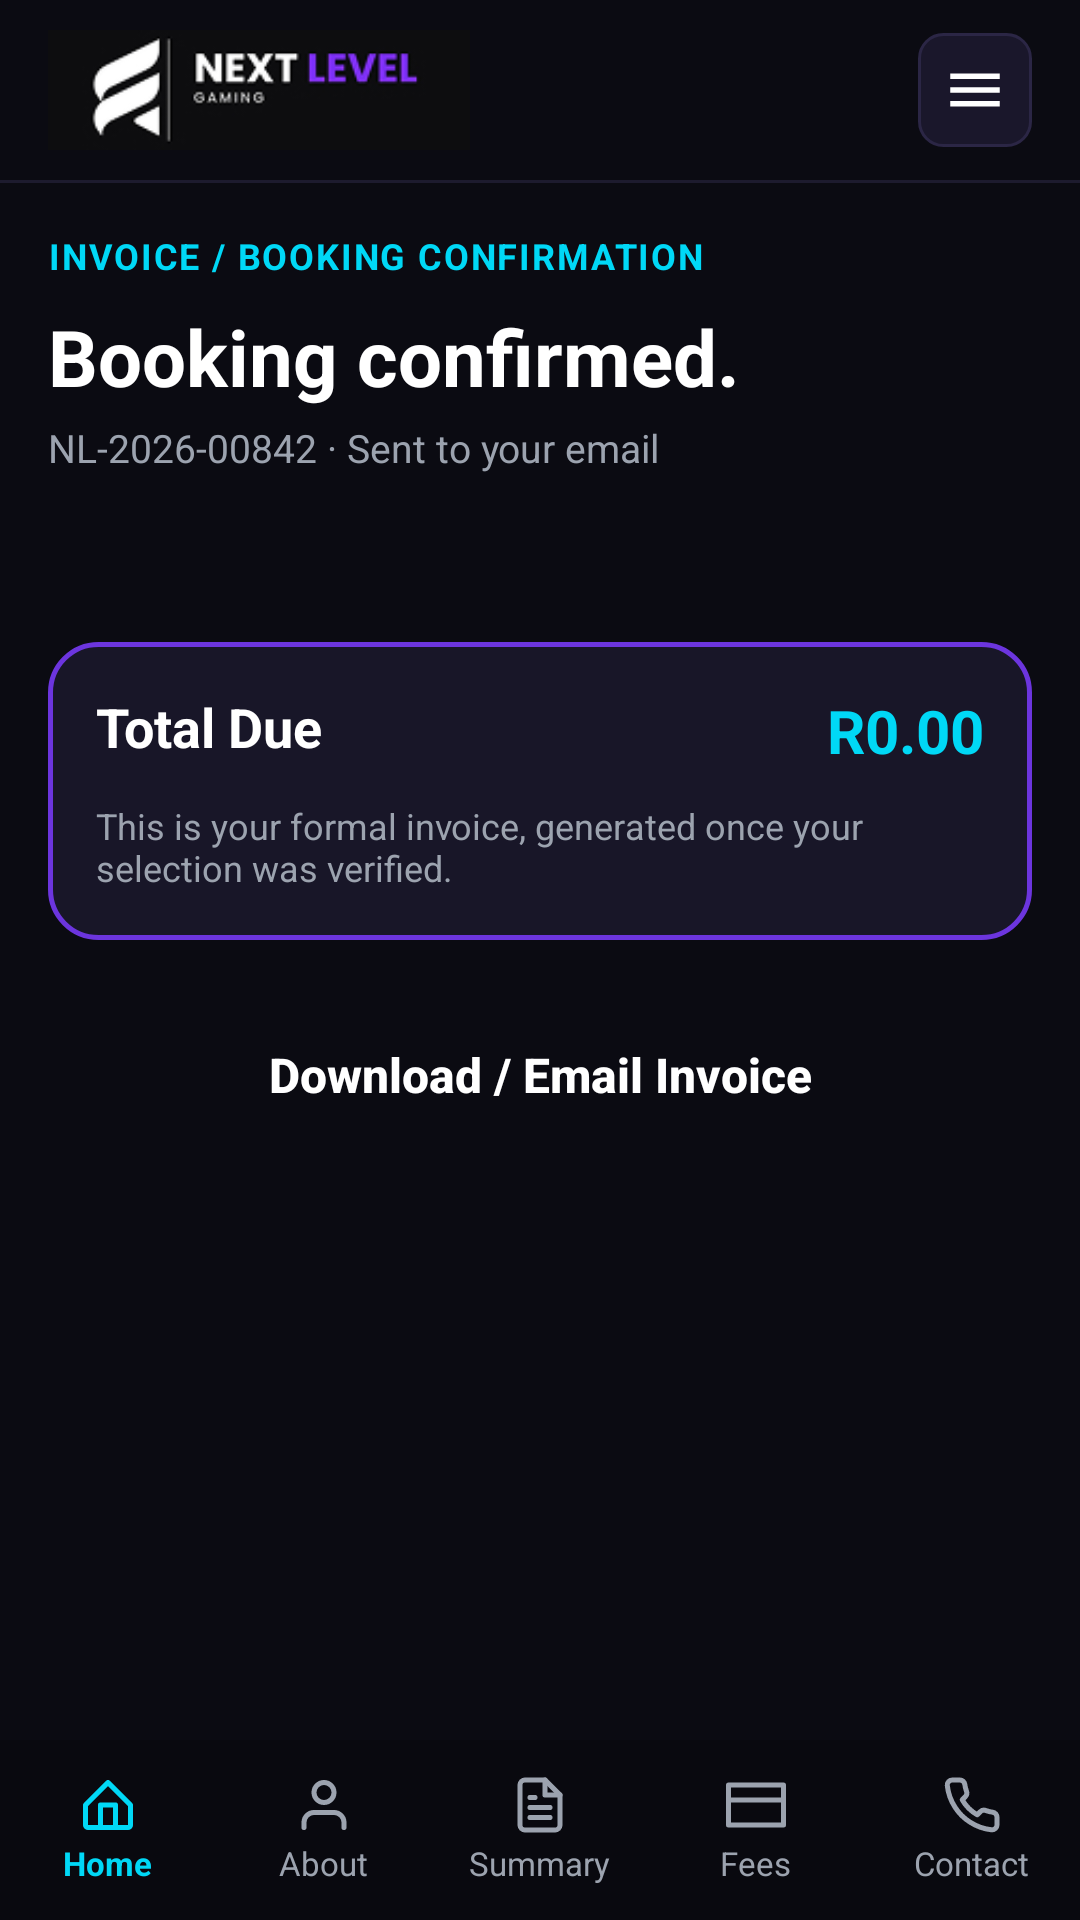

Named icons in this screenshot (1080×1920) and their centers, (x,y):
Menu: (975,90)
